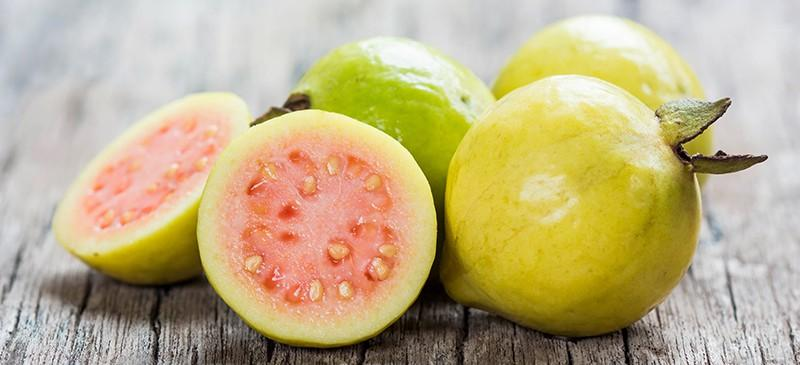oi: (447, 61, 718, 339)
